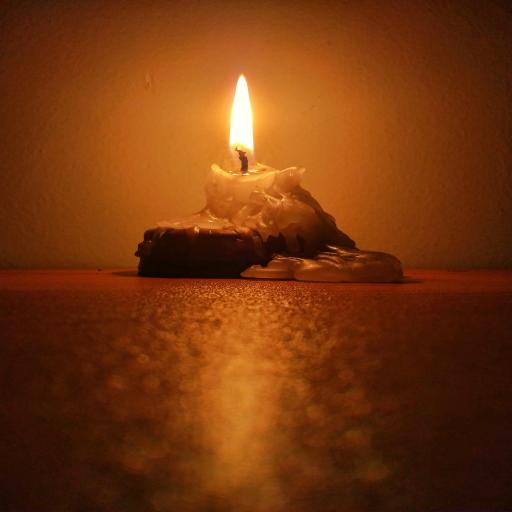candlelight: (159, 75, 403, 282)
